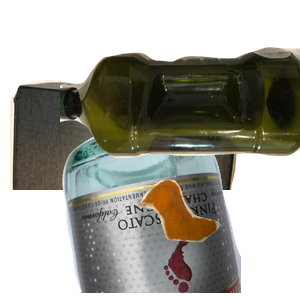cardboard: (10, 77, 245, 257)
glass: (60, 120, 300, 300)
plastic: (60, 44, 300, 195)
trash: (137, 177, 300, 300)
